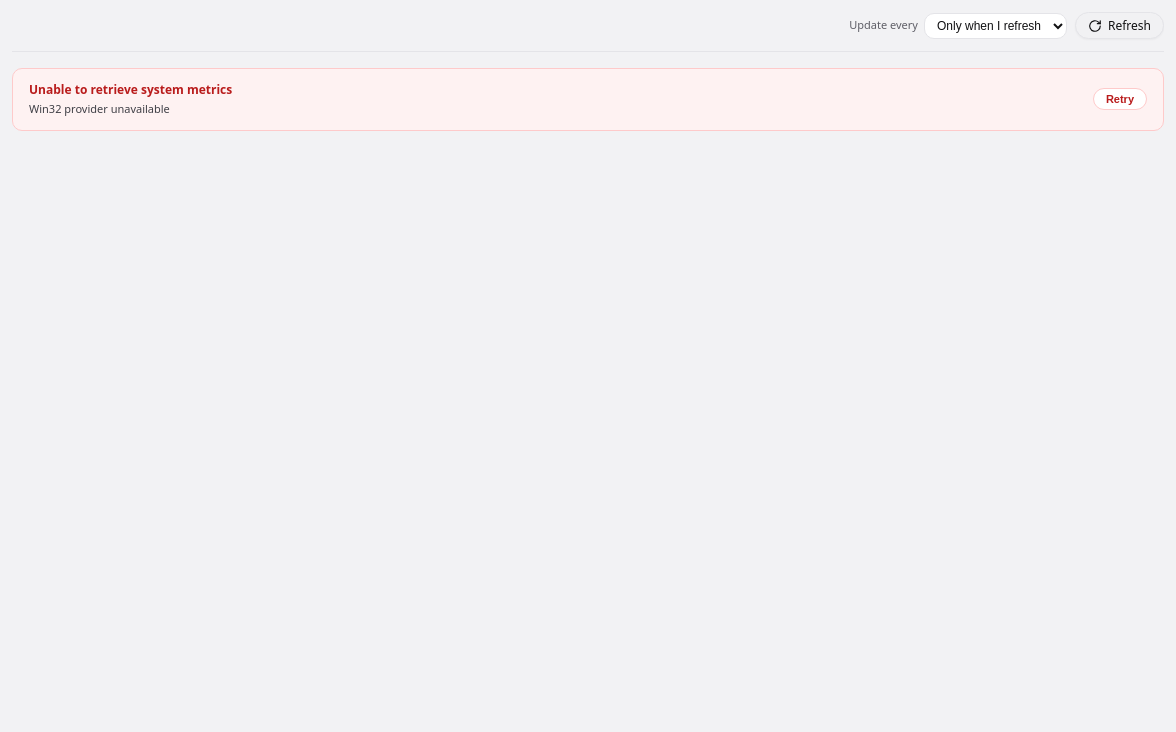
Test case: SystemMonitor Component › handles IPC errors and allows retry
The width and height of the screenshot is (1176, 732).
Expected: the message "Unable to retrieve system metrics Win32 provider unavailable Retry" is shown, [12,68,1164,130]
Expected: the text "Unable to retrieve system metrics" is shown, [29,81,232,99]
Note: Click retry
What coordinates should you click on to do the following:
click the button with aria-label "retry loading metrics"
I would click on:
 (1120, 99)
Its box is [1093,88,1147,110].
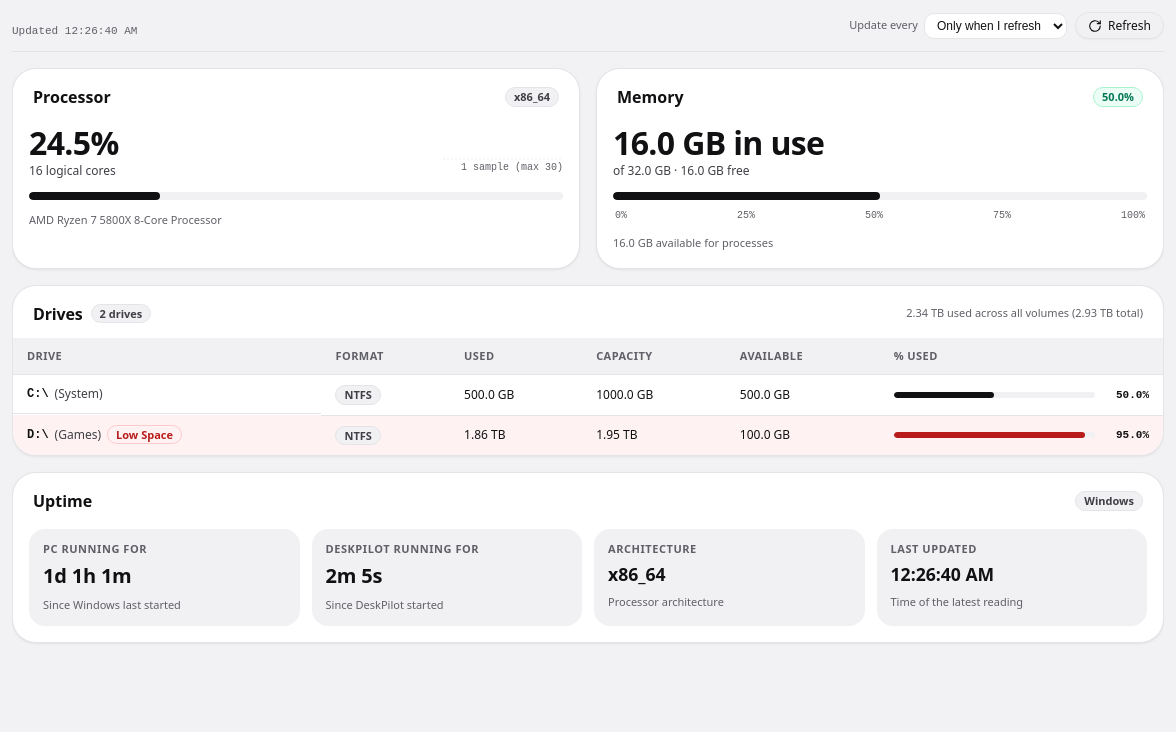
Expected: the text "24.5%" is shown, [29,125,119,160]
